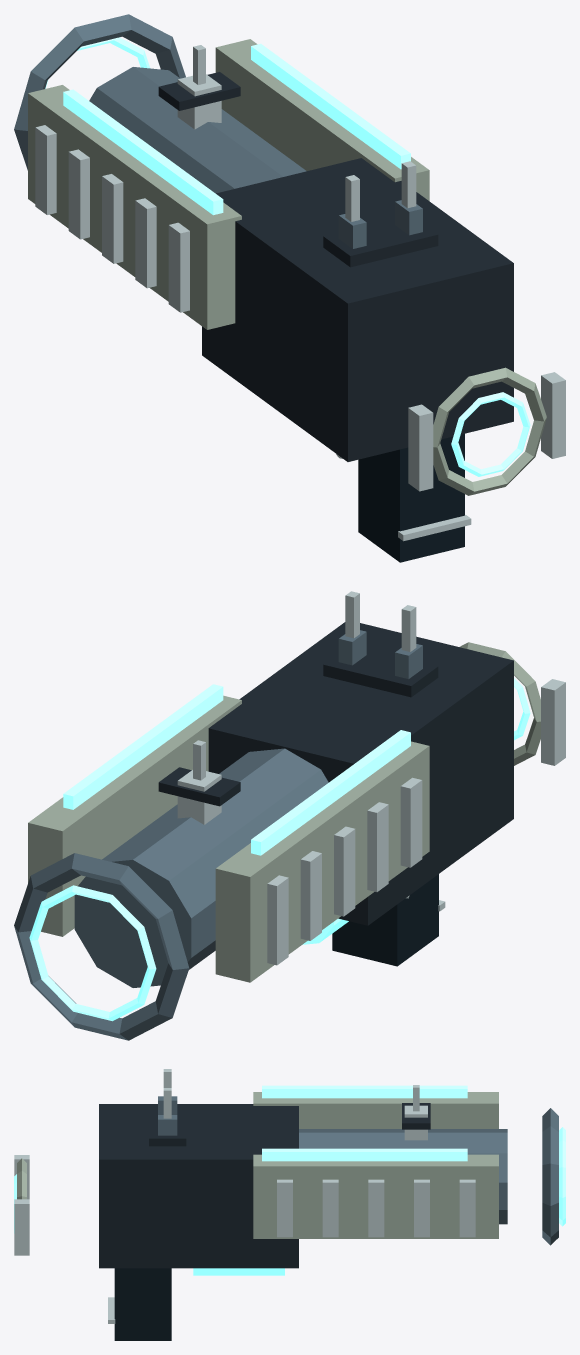
File: world-4.glb
3 views of the same model, one above another, from view 1: azimuth 30°, elevation 25°; view 2: azimuth 150°, elevation 25°; view 3: azimuth 270°, elevation 25° (orthographic). The views are drawn at different scales.
Visible parts, largest first — view 1: body-dark, body-ceramic, body-trim, body-light, body-glow, body-rubber; view 2: body-dark, body-light, body-ceramic, body-trim, body-glow, body-rubber; view 3: body-dark, body-ceramic, body-light, body-trim, body-glow, body-rubber, feed-glow.
Boxes of the visible parts, x1,y1,x2,y2 form: body-dark: (158, 72, 513, 461); body-ceramic: (28, 39, 546, 495); body-trim: (35, 45, 565, 541); body-light: (14, 14, 422, 248); body-glow: (45, 37, 530, 476); body-rubber: (358, 433, 464, 562); body-dark: (158, 622, 513, 925); body-light: (14, 630, 422, 1040); body-ceramic: (28, 642, 540, 982); body-trim: (177, 591, 565, 965); body-glow: (29, 678, 530, 1021); body-rubber: (332, 874, 438, 966); body-dark: (99, 1103, 430, 1268); body-ceramic: (17, 1092, 498, 1238); body-light: (158, 1096, 558, 1245); body-trim: (14, 1069, 475, 1323); body-glow: (14, 1085, 565, 1233); body-rubber: (114, 1268, 171, 1340); feed-glow: (193, 1268, 284, 1275).
Bounding box in the file's own units: 0.335 × 0.4745 × 0.966.
